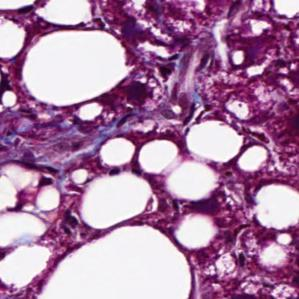inflammation: (114, 4, 171, 46), (125, 74, 166, 120)
